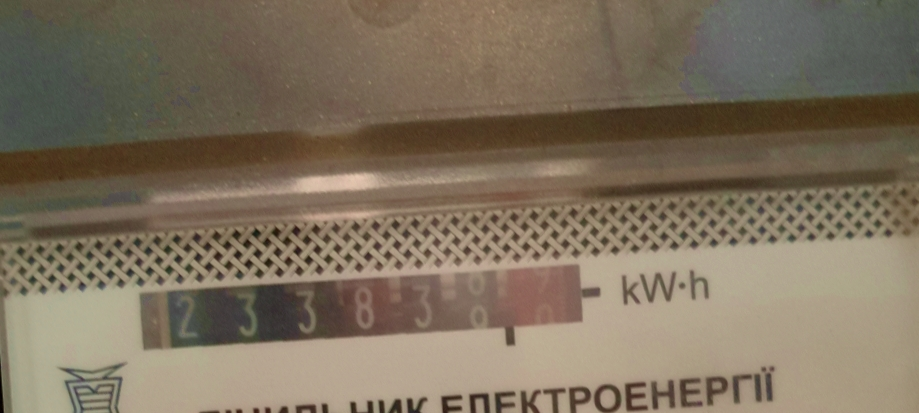0: (532, 298, 559, 325)
2: (171, 289, 202, 340)
3: (232, 287, 263, 338), (294, 285, 321, 336), (409, 279, 437, 328)
8: (351, 282, 378, 329), (463, 268, 492, 296)
9: (465, 299, 493, 330), (529, 263, 556, 293)
screen: (126, 248, 603, 373)
